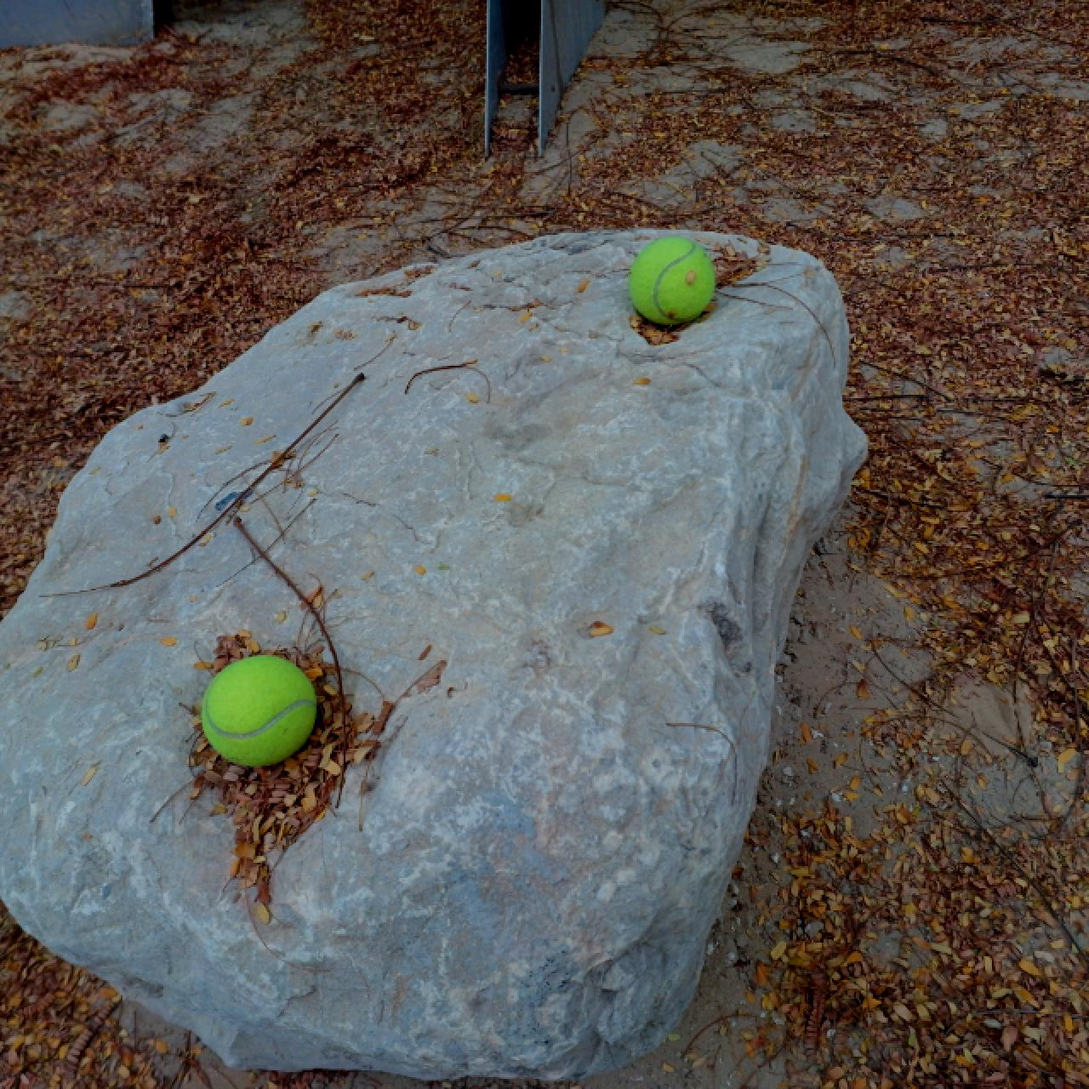tennis-ball: (198, 650, 319, 769), (628, 234, 716, 328)
